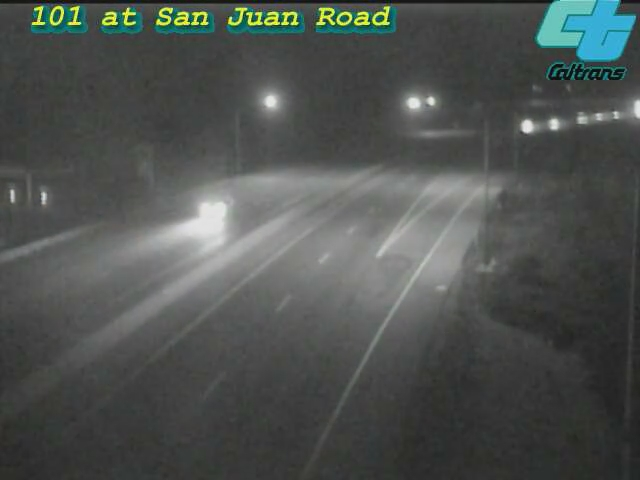vehicle: (174, 172, 254, 252), (575, 92, 625, 142), (557, 93, 607, 143), (529, 99, 579, 149), (504, 101, 554, 151), (596, 90, 640, 140)
